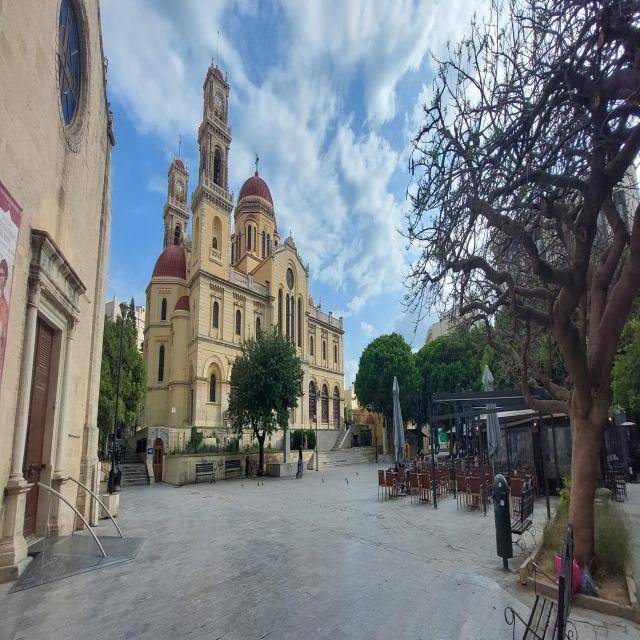Agios Minas: (141, 22, 347, 480)
